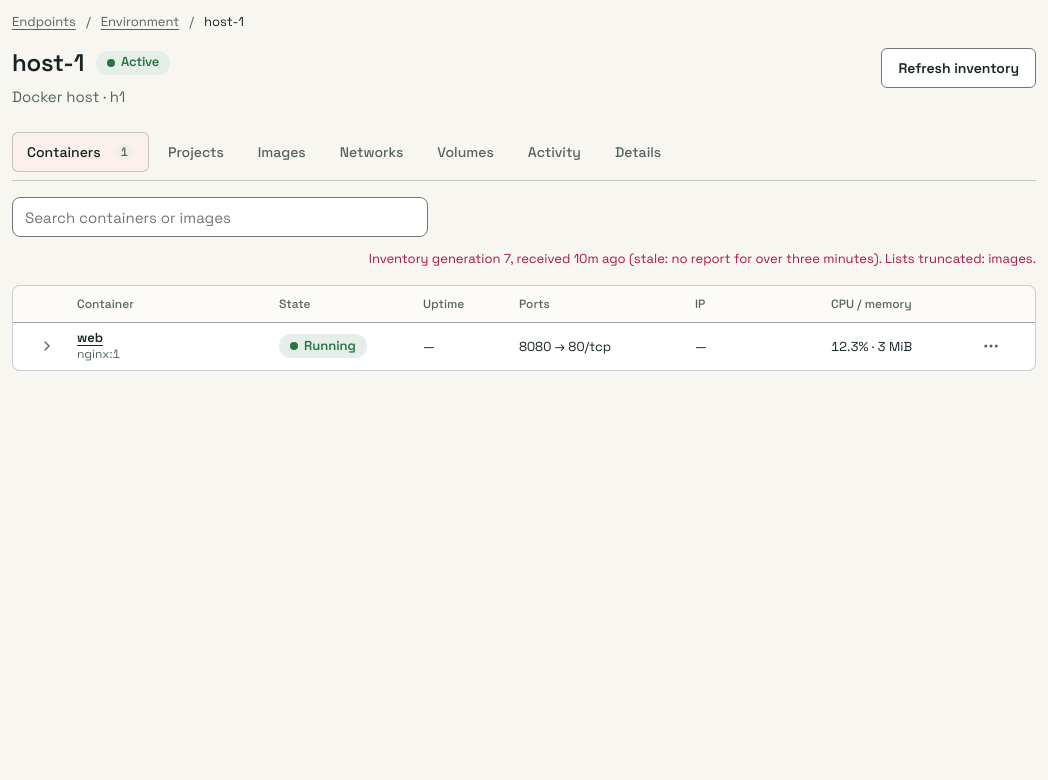
Scenario: renders a fresh snapshot and flags staleness and truncation
Expected: the text "12.3% · 3 MiB" is shown, [831, 338, 912, 354]
Click the button named "Show details for web".
click(47, 346)  # box [33, 332, 61, 360]
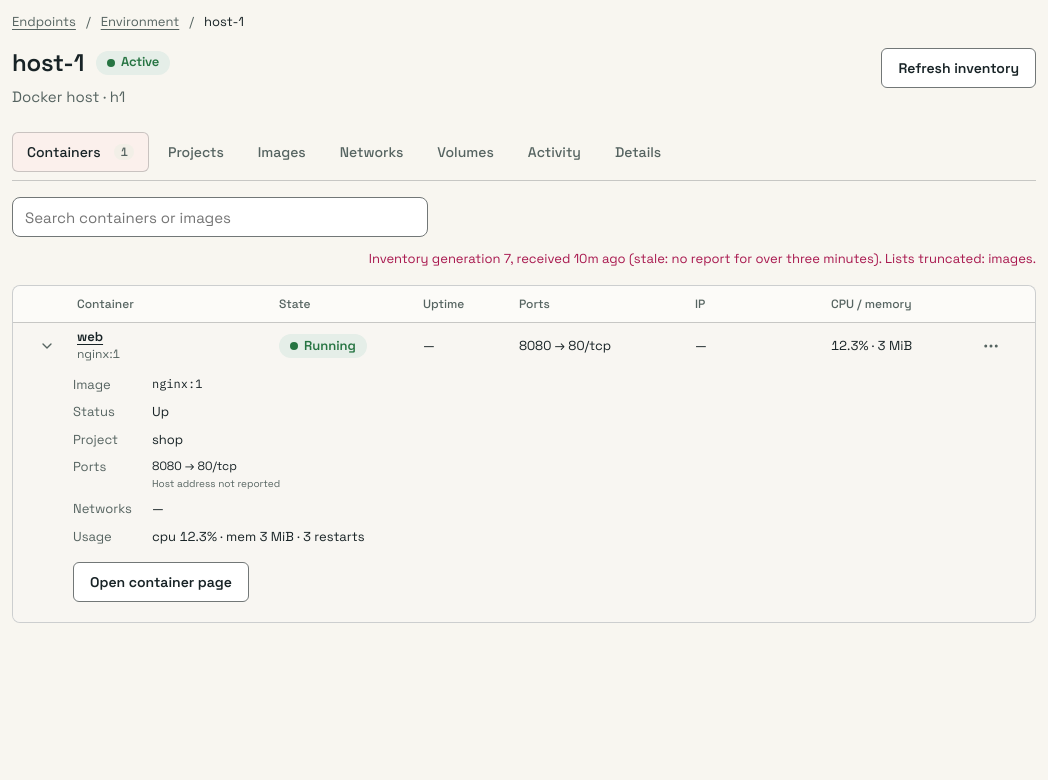
Expected: the text "Inventory generation" shows "generation 7", [369, 249, 1036, 268]
Result: the text "cpu 12.3% · mem 3 MiB · 3 restarts" is shown at [152, 528, 365, 544]
Result: the text "8080 → 80/tcp" is shown 2 times at [519, 337, 611, 354]; [152, 458, 237, 474]
Click the button "Images".
click(282, 152)  # box [243, 132, 321, 172]
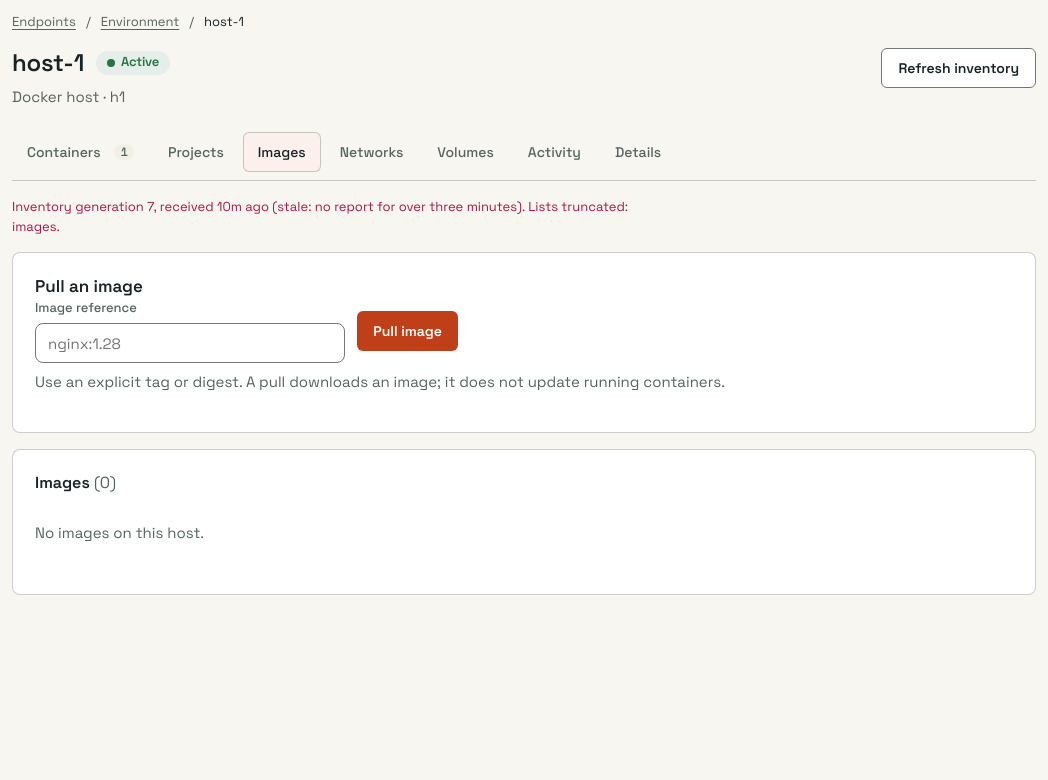
Result: the text "No images on this host." is shown at [35, 522, 204, 542]
Click the button "Details".
click(638, 152)  # box [600, 132, 676, 172]
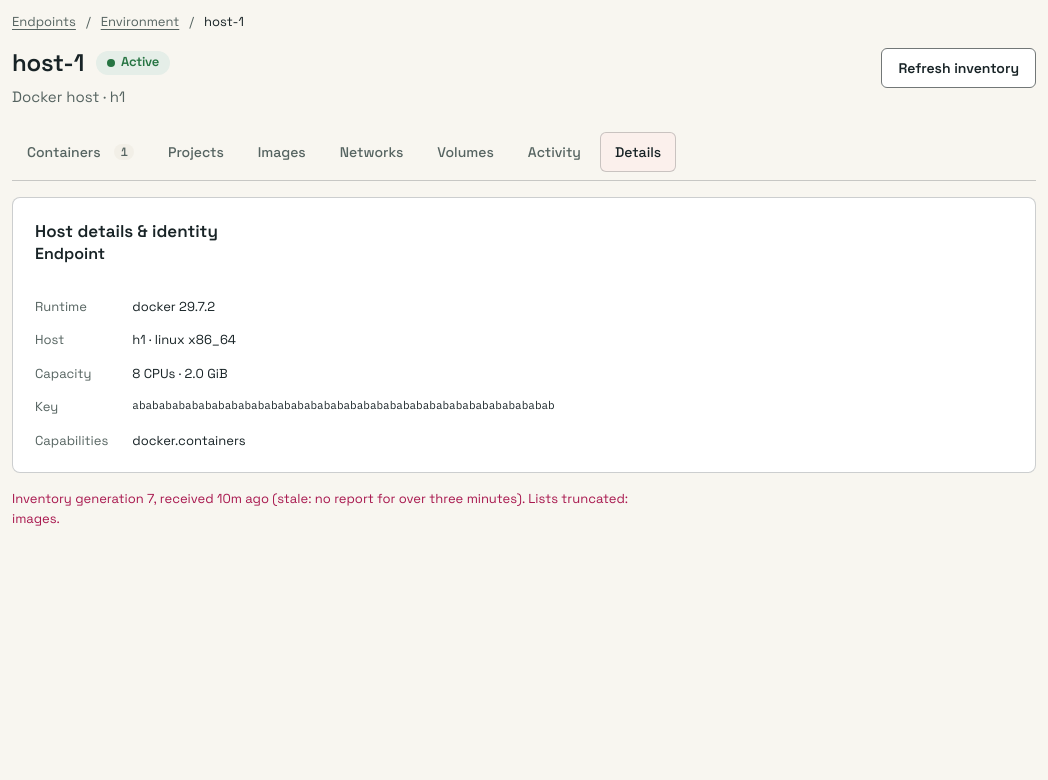
Result: the text "8 CPUs · 2.0 GiB" is shown at [132, 364, 228, 382]
